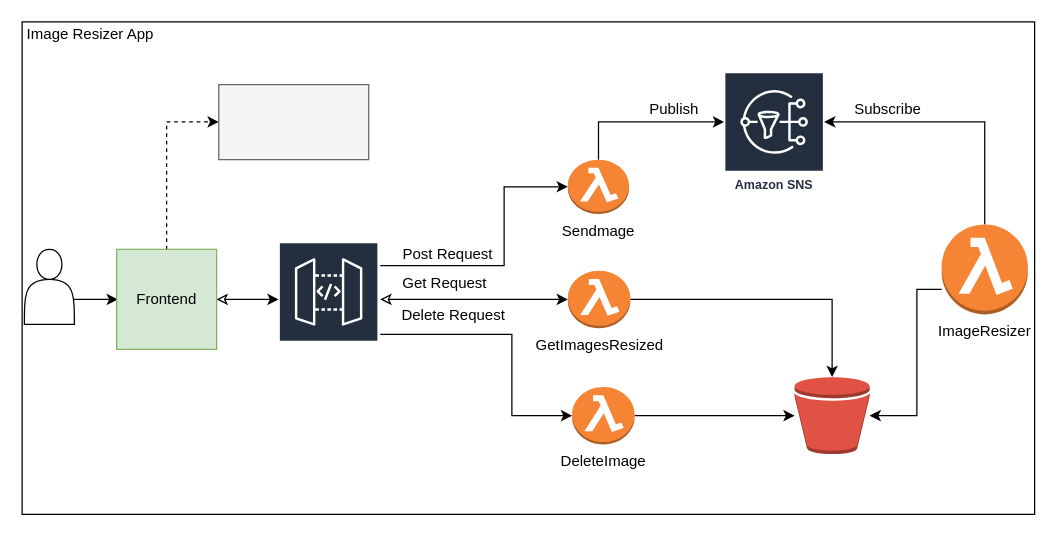
Some shapes in this 1056 by 536 pixel diagram are drawn without their labels. Here are the shapes that lost their labels. From the top down, the centre of each, then its label:
At [293,121]: "ThridParty Public Service".
At [328,308]: "Amazon API Gateway".
At [831,415]: "S3 Bucket".
